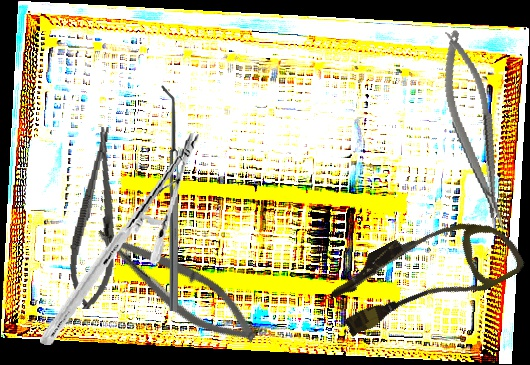Cannula: (321, 191, 528, 356)
Micro Scissor: (82, 217, 269, 356)
Needle Holder: (39, 117, 201, 361), (433, 25, 514, 237), (64, 124, 129, 312)
Spatula Surgical: (161, 85, 178, 311)
